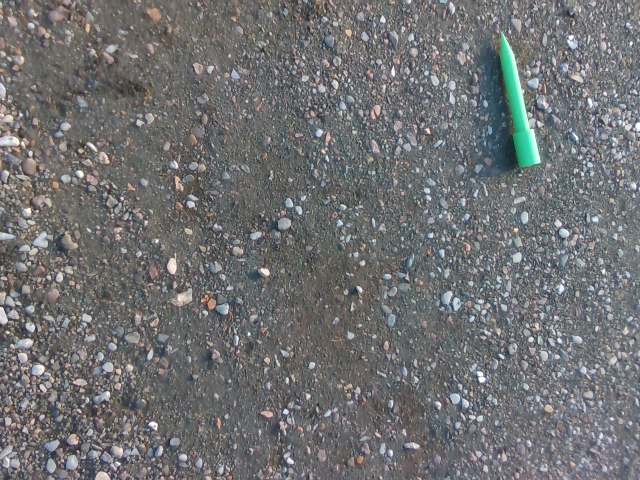Probe: (494, 23, 546, 174)
